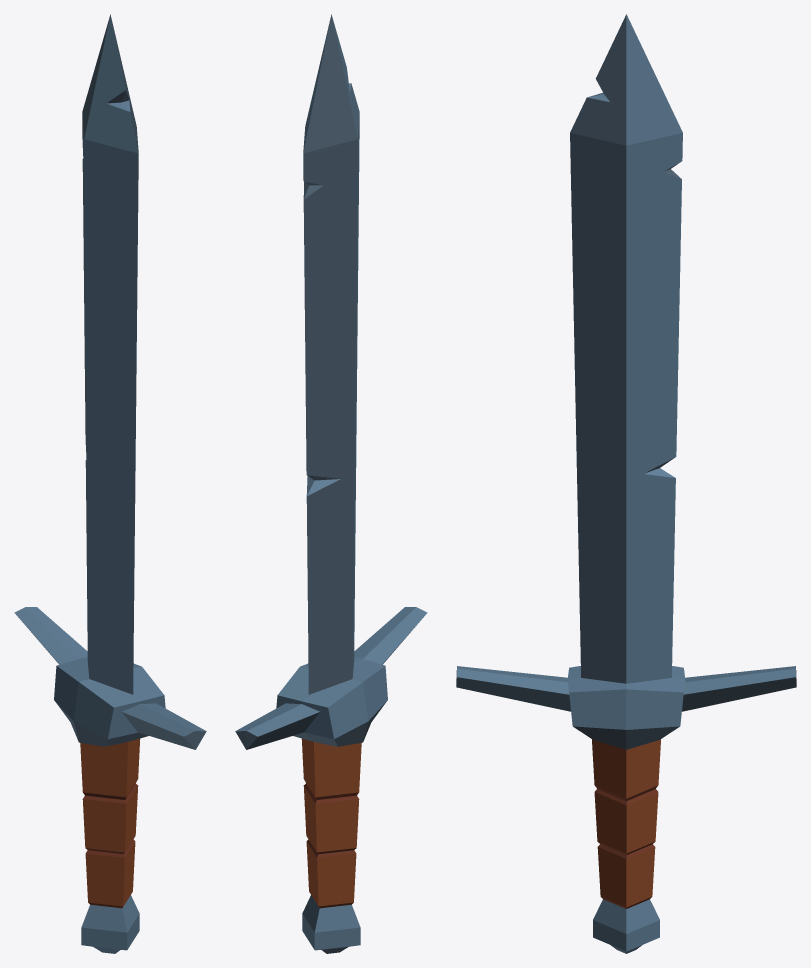
The model's file is SM_ShortSword_A.fbx.
3 renders of one model, left to right at view 1: azimuth 30°, elevation 25°; view 2: azimuth 150°, elevation 25°; view 3: azimuth 270°, elevation 25°, orthographic.
Parts seen in each view (by area): view 1: SM_ShortSword_A; view 2: SM_ShortSword_A; view 3: SM_ShortSword_A.
Boxes of the visible parts, x1,y1,x2,y2 form: SM_ShortSword_A: (14,14,206,953); SM_ShortSword_A: (235,14,427,953); SM_ShortSword_A: (456,14,796,953).
Bounding box in the file's own units: 0.1249 × 1.51 × 0.4994.
